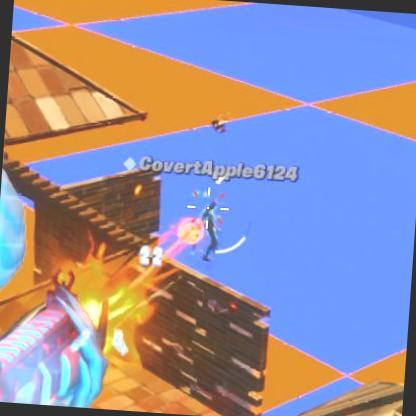person: (200, 198, 224, 259)
